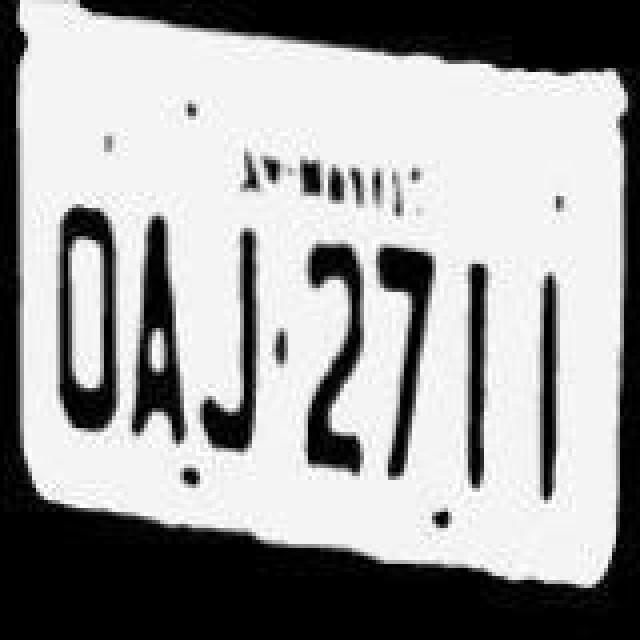1: (526, 262, 582, 514), (456, 240, 508, 500)
2: (290, 230, 370, 494)
7: (368, 236, 436, 496)
A: (124, 198, 192, 458)
J: (196, 204, 272, 472)
O: (46, 192, 118, 448)
